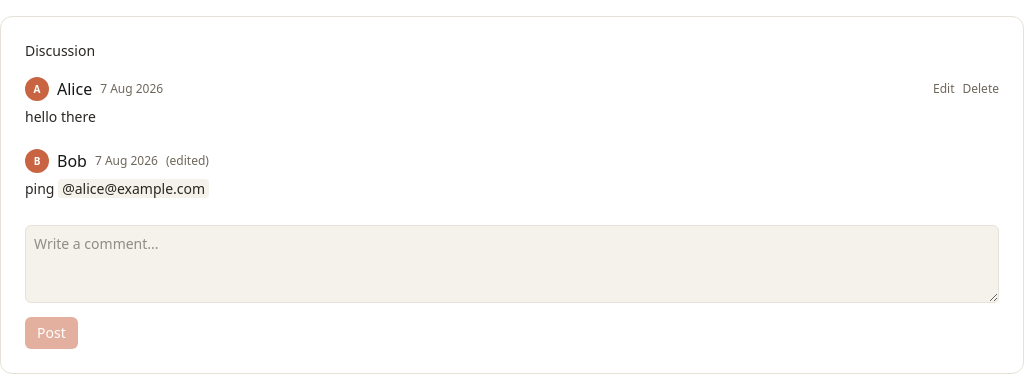
Test case: TaskComments › reports a refresh failure without losing the draft when the post itself succeeded
In the text box with placeholder "Write a comment...": [512, 264] box [25, 225, 999, 303], type "my reply"
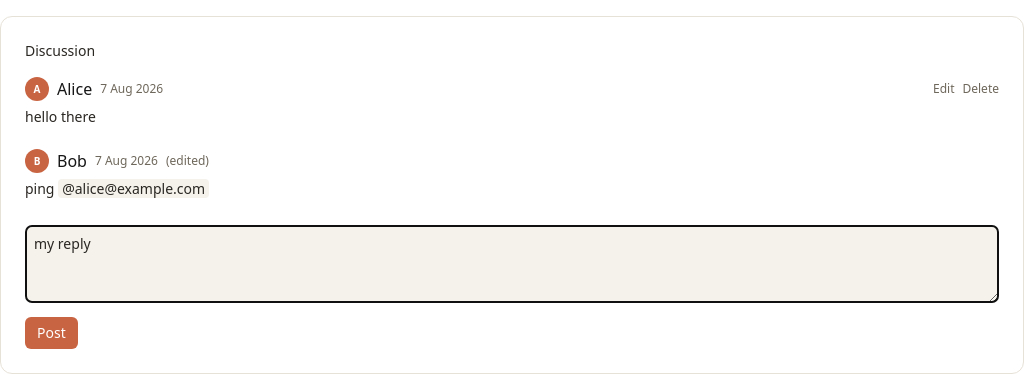
Click the button "Post": [51, 333] box [25, 317, 78, 349]
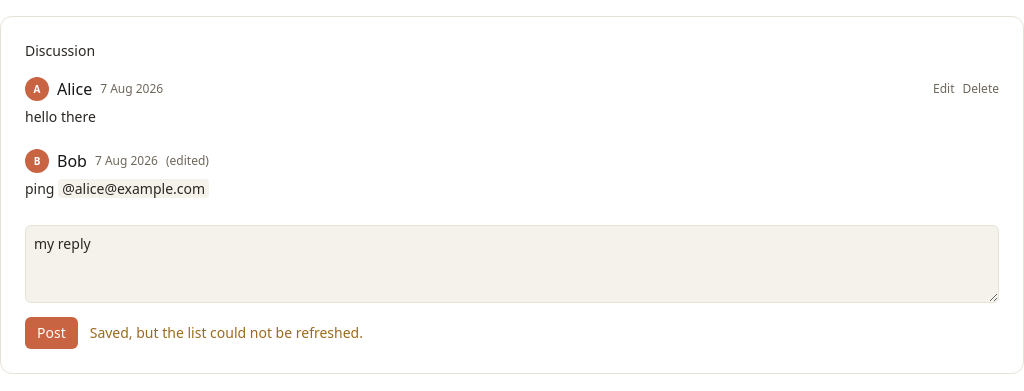
Expected: the number of list items is 2, [25, 77, 999, 129]; [25, 149, 209, 198]
Now the text "Saved, but the list could not be refreshed." is shown, box [90, 323, 363, 343]
